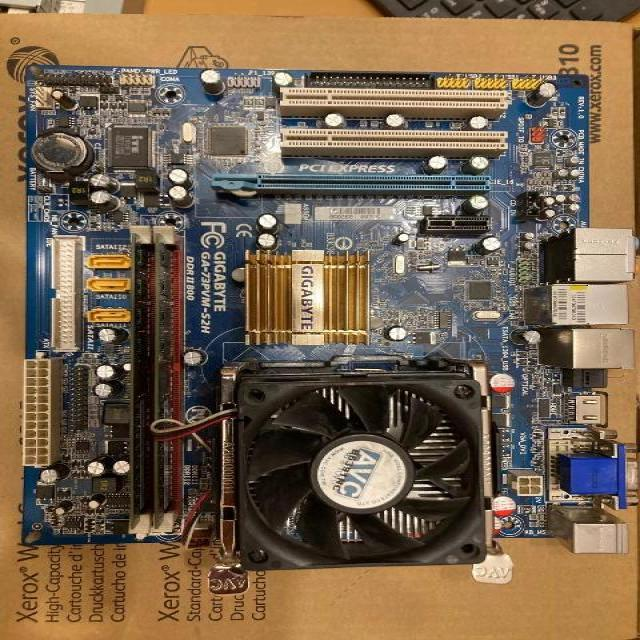CPU_Fan: (232, 369, 488, 572)
RAM: (128, 232, 151, 531), (152, 232, 172, 530)
